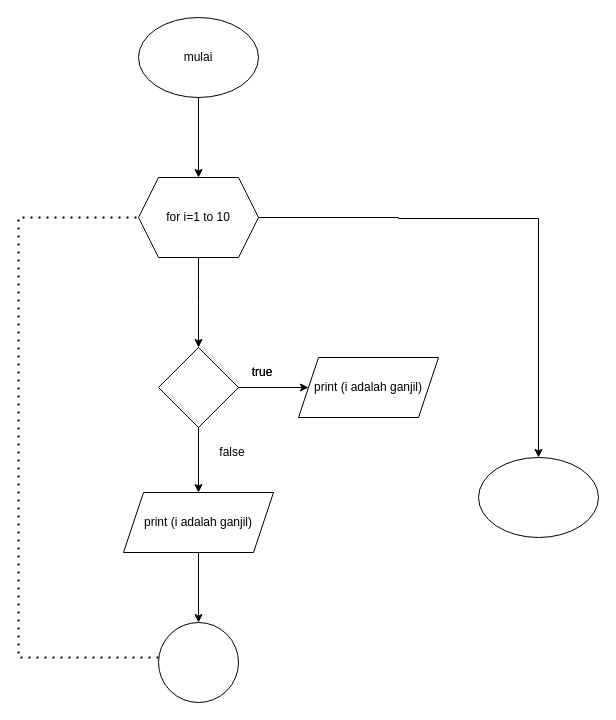
Some shapes in this 616 by 720 pixel diagram are drawn without their labels. Each missing label, with the centre of its shape:
"i mod2=1" goes at point (198, 387).
"selesai" goes at point (538, 497).
